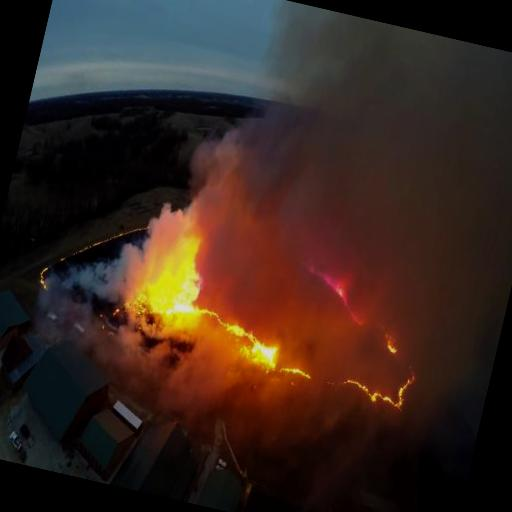fire: (30, 204, 438, 413)
smoke: (24, 0, 512, 466)
